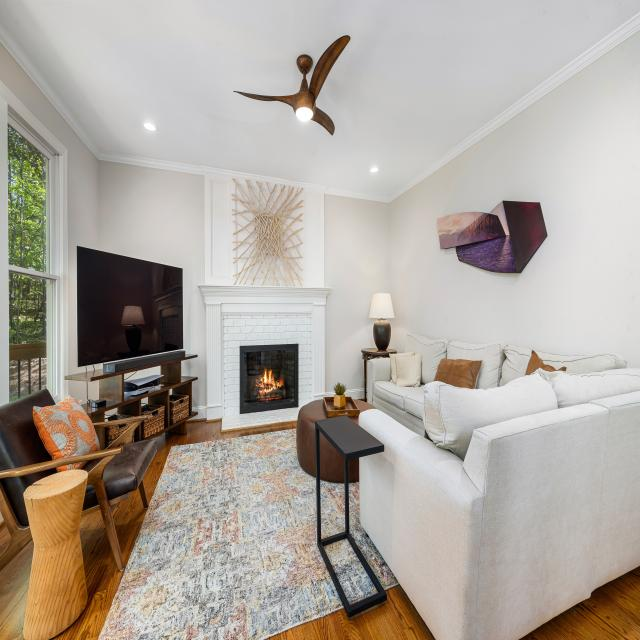floor: (49, 487, 148, 640), (143, 418, 297, 505), (265, 584, 435, 640), (518, 566, 640, 640), (0, 537, 34, 640)
wall: (386, 29, 640, 369), (0, 42, 99, 406), (99, 160, 207, 421), (197, 284, 333, 433), (437, 186, 623, 273), (324, 194, 389, 400), (239, 343, 299, 413), (204, 173, 233, 287), (303, 188, 325, 287), (104, 353, 157, 364), (124, 366, 161, 381), (87, 380, 99, 401), (124, 371, 136, 379), (93, 363, 103, 370), (86, 365, 95, 372), (157, 351, 170, 354)
